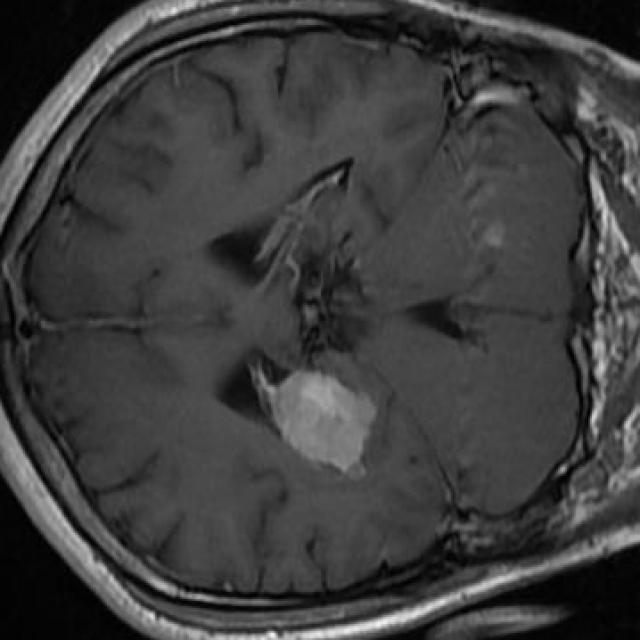meningioma: (273, 371, 378, 472)
